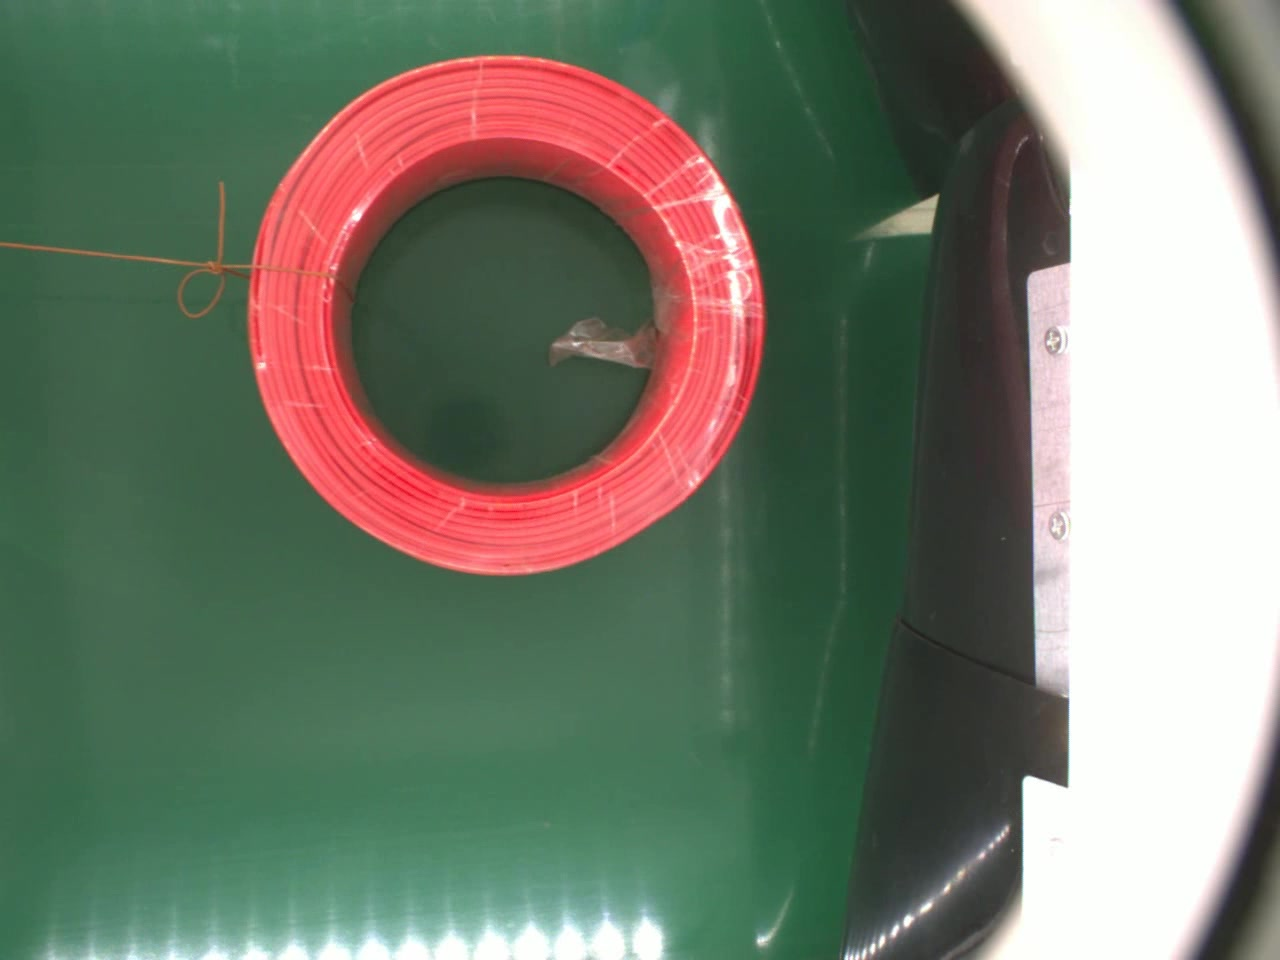red: (231, 54, 768, 580)
